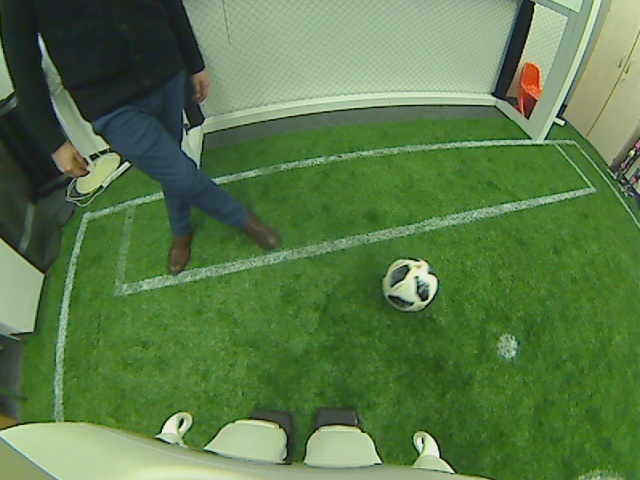ball: (380, 258, 440, 312)
